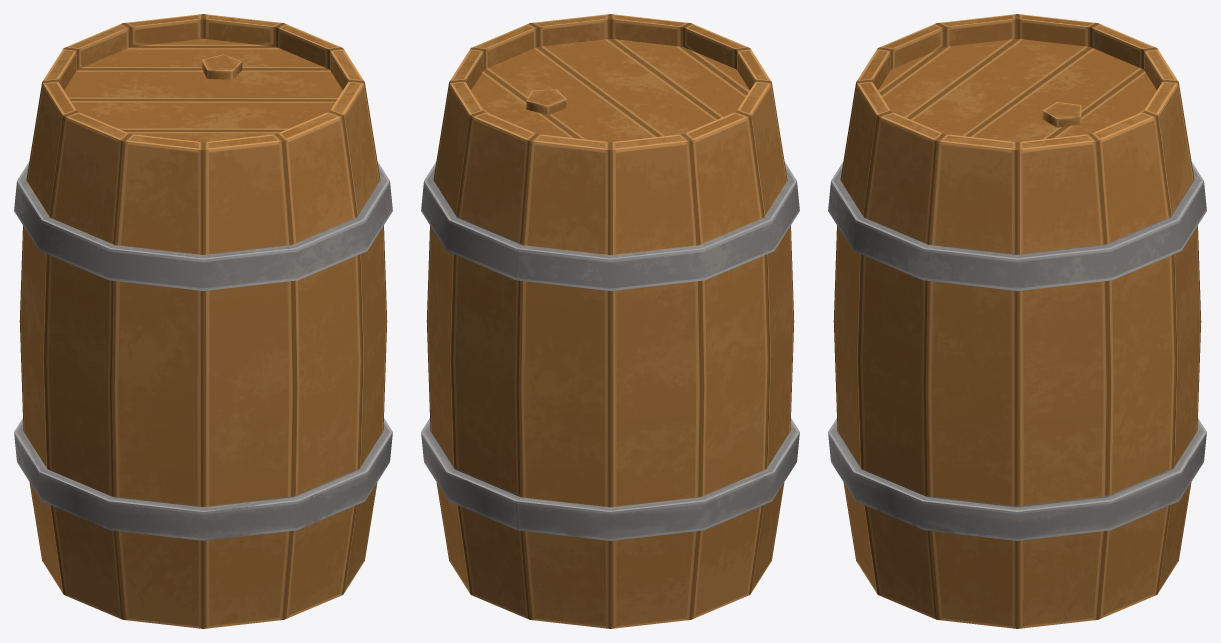
File: Barrel.fbx
The picture shows the model from 3 angles, left to right: view 1: azimuth 30°, elevation 25°; view 2: azimuth 150°, elevation 25°; view 3: azimuth 270°, elevation 25°; orthographic projection.
Parts seen in each view (by area): view 1: Circle; view 2: Circle; view 3: Circle.
Part boxes in pixels (x1=…): Circle: x1=14, y1=14, x2=392, y2=628; Circle: x1=421, y1=14, x2=799, y2=628; Circle: x1=828, y1=14, x2=1206, y2=628.
Bounding box in the file's own units: 64.58 × 90.28 × 64.58.
